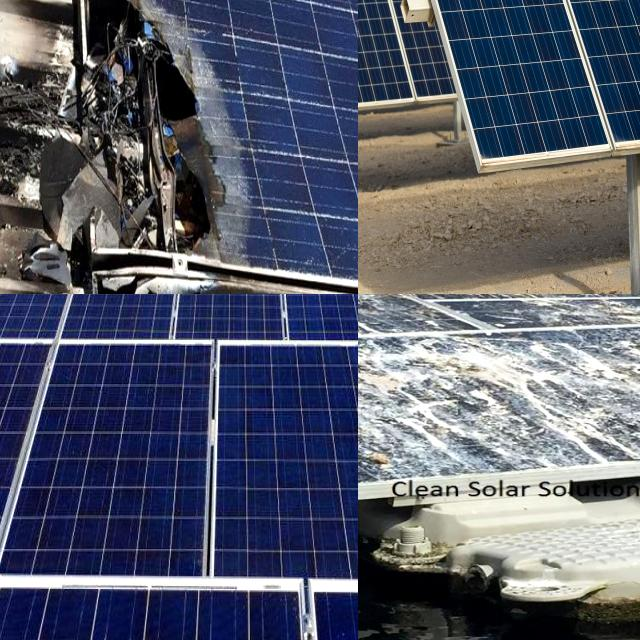bird: (377, 339, 523, 438), (358, 348, 420, 435), (564, 350, 640, 399)
crack: (0, 351, 219, 604), (384, 0, 617, 204), (207, 340, 358, 605), (500, 0, 640, 211), (358, 0, 430, 158), (159, 294, 306, 365), (358, 0, 429, 144), (50, 294, 186, 364), (358, 0, 420, 151), (0, 294, 97, 367), (271, 294, 358, 361)
shadow: (78, 0, 267, 268)
